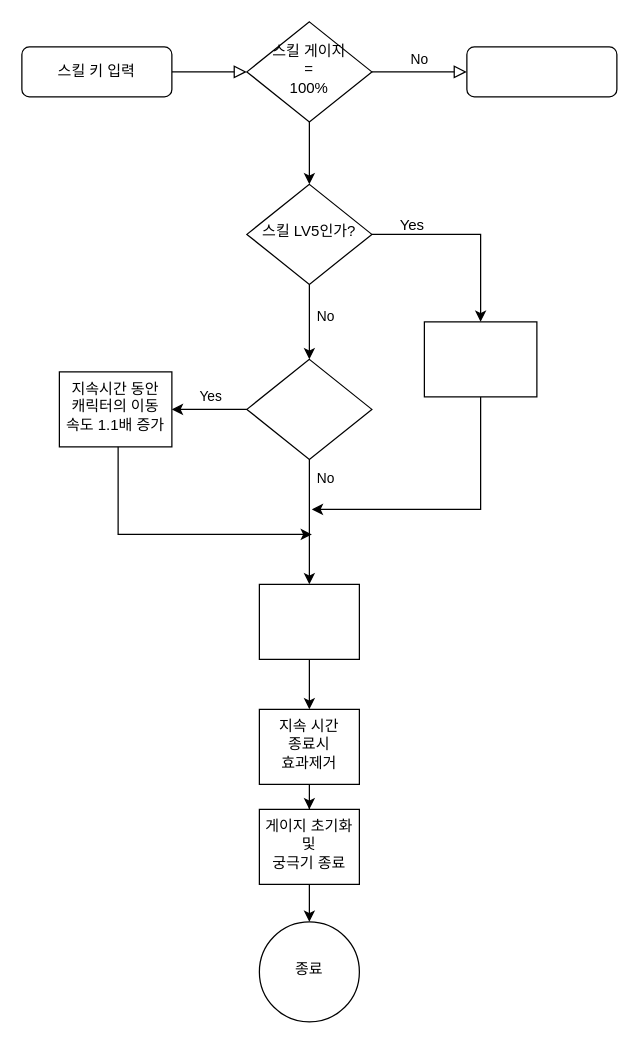
The diagram is 639 pixels wide and 1044 high, and some of its shapes have lost their labels. The shapes that lost their labels are listed below. From the top down, each one's centre as x and y in pixels, then its label:
At (541,71): "발동 안됨".
At (480,359): "지속시간 동안 캐릭터의 이동속도 1.2배 공격속도 1.2배 증가".
At (309,408): "스킬 Lv4인가?".
At (308,621): "탄막의 크기 데미지 증가".
